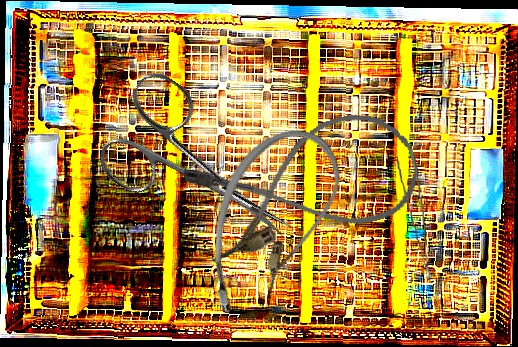Cannula: (180, 100, 429, 269), (193, 114, 351, 333)
Iris Scissors: (85, 65, 322, 278)
Tissue Forceps: (396, 155, 431, 282)
